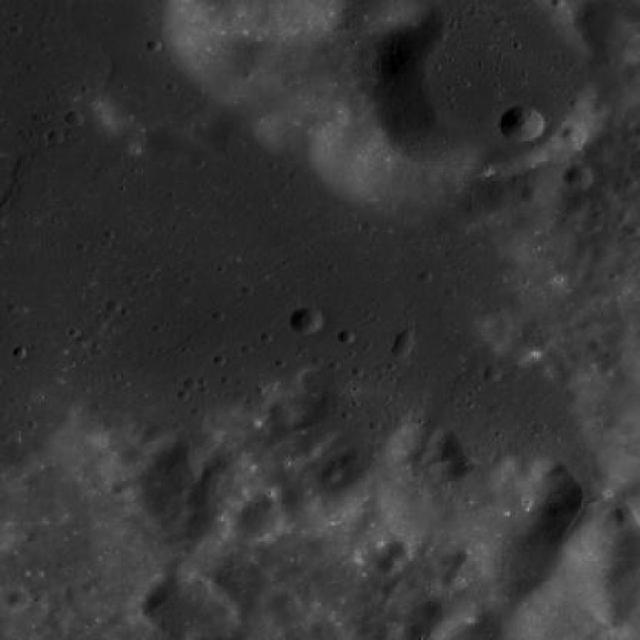crater: (366, 0, 600, 180), (146, 574, 232, 640), (190, 457, 258, 514), (231, 494, 291, 544), (424, 592, 472, 632), (498, 105, 544, 144), (186, 508, 232, 546), (278, 483, 318, 517), (289, 306, 322, 334), (310, 615, 344, 640), (268, 591, 300, 617), (562, 164, 592, 188), (386, 539, 412, 561), (6, 589, 31, 609), (375, 557, 400, 577), (442, 572, 466, 592), (560, 125, 582, 144), (452, 548, 474, 567), (520, 184, 542, 202), (320, 465, 342, 483), (483, 364, 502, 380), (390, 344, 410, 359)
